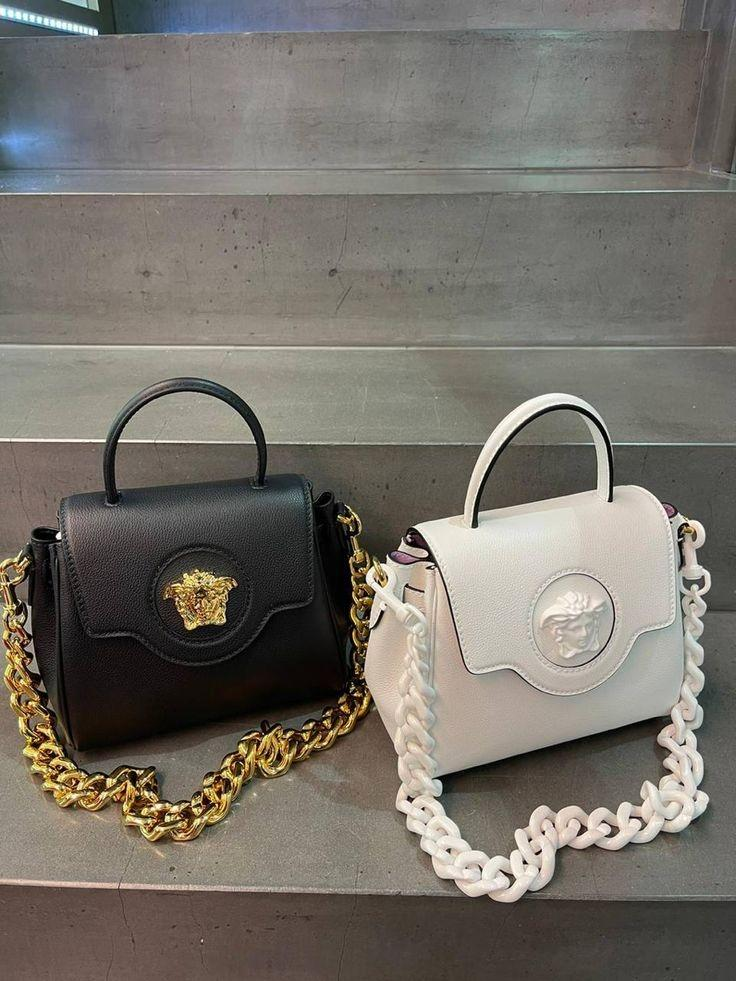VERSACE: (145, 540, 254, 647), (526, 571, 622, 675)
